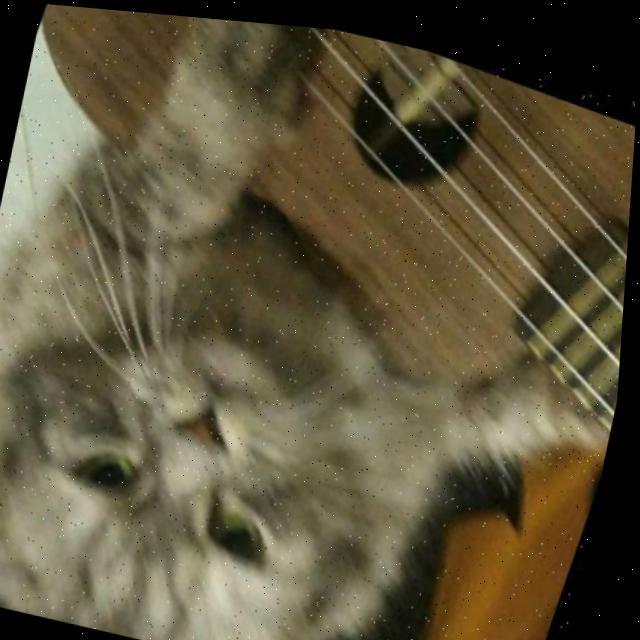Cats: (0, 142, 539, 640)
